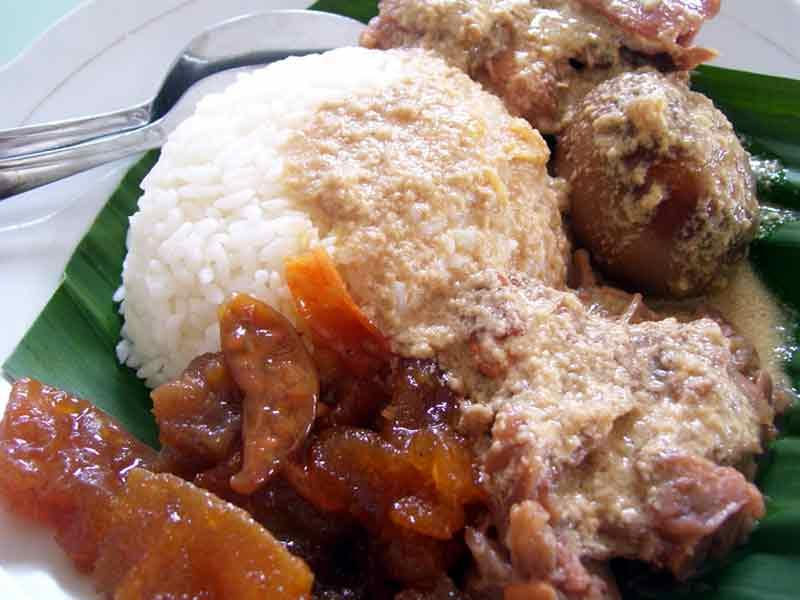gudeg: (1, 6, 773, 600)
